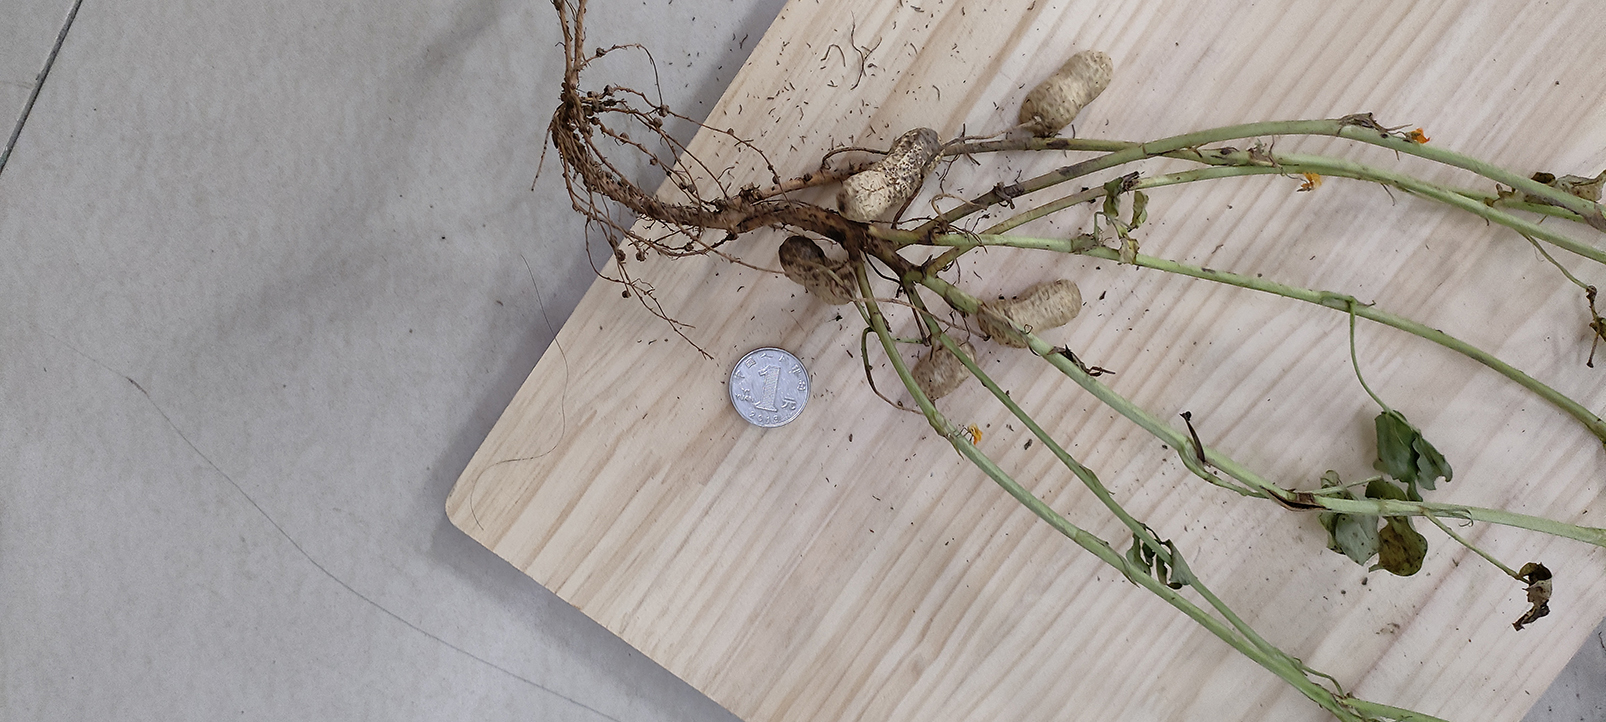h: (835, 127, 942, 222), (1019, 51, 1113, 137), (975, 279, 1081, 346)
l: (780, 236, 857, 303), (911, 339, 977, 395)
